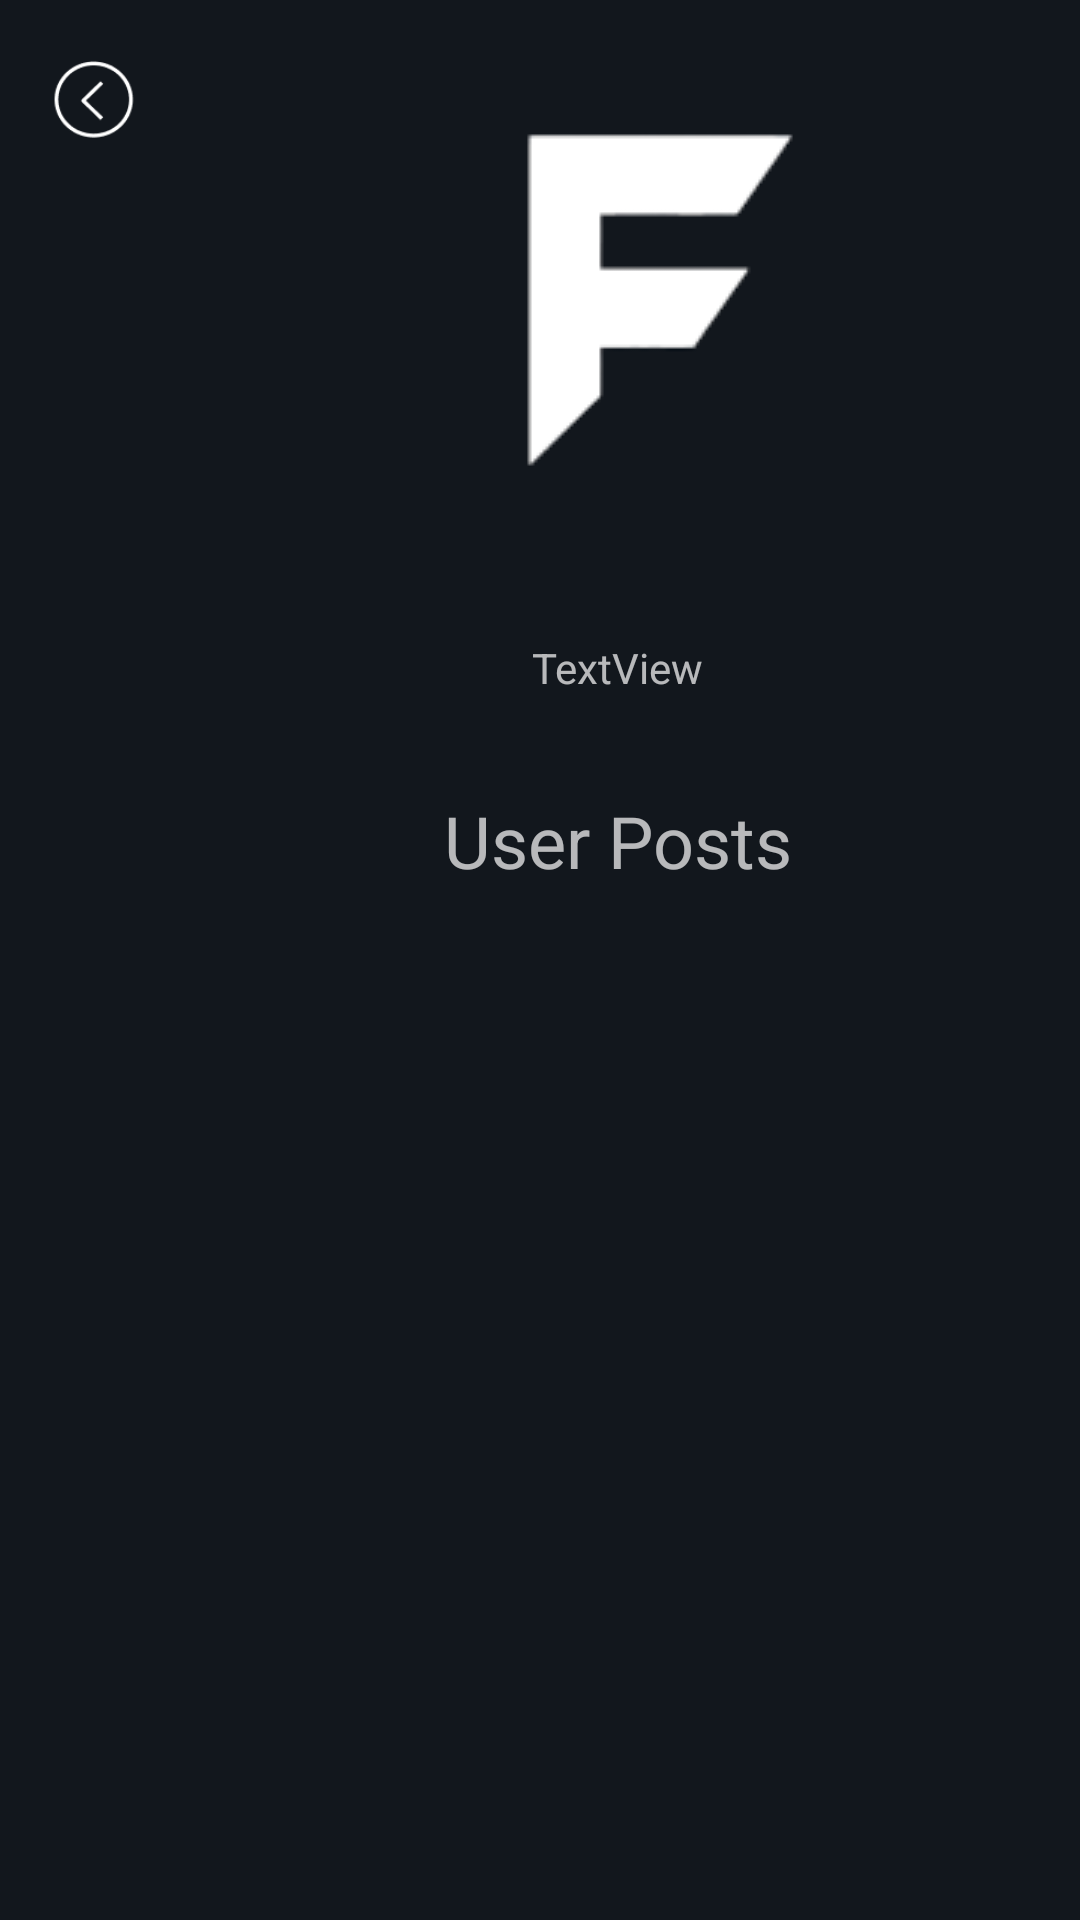

Named icons in this screenshot (1080x1920) and their centers, (x=x, y=y):
back arrow: (x=94, y=99)
